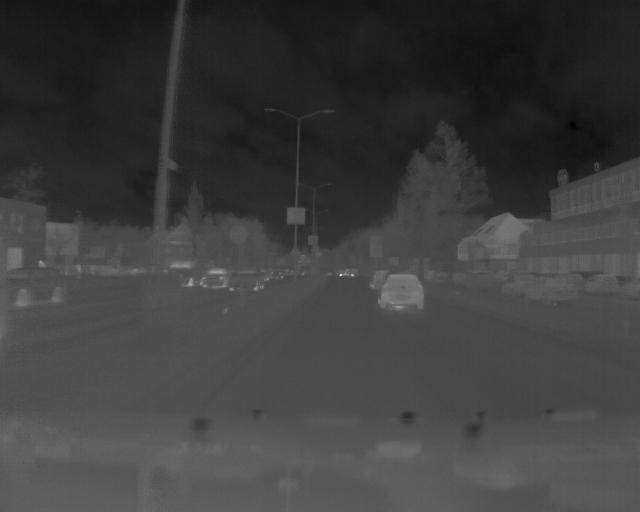car: (4, 266, 68, 308), (375, 273, 429, 313), (199, 267, 231, 292), (335, 267, 359, 279)
